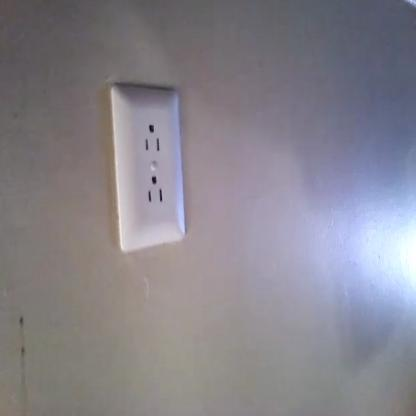OUTLET: (112, 87, 184, 255)
